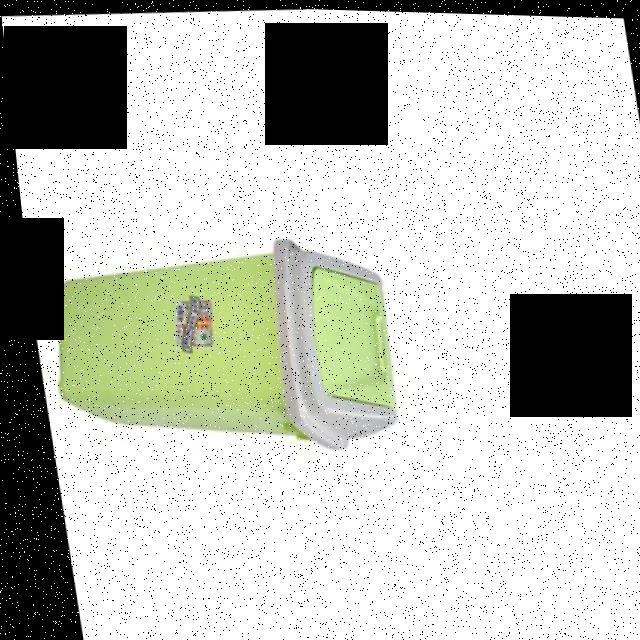bin: (21, 189, 423, 481)
